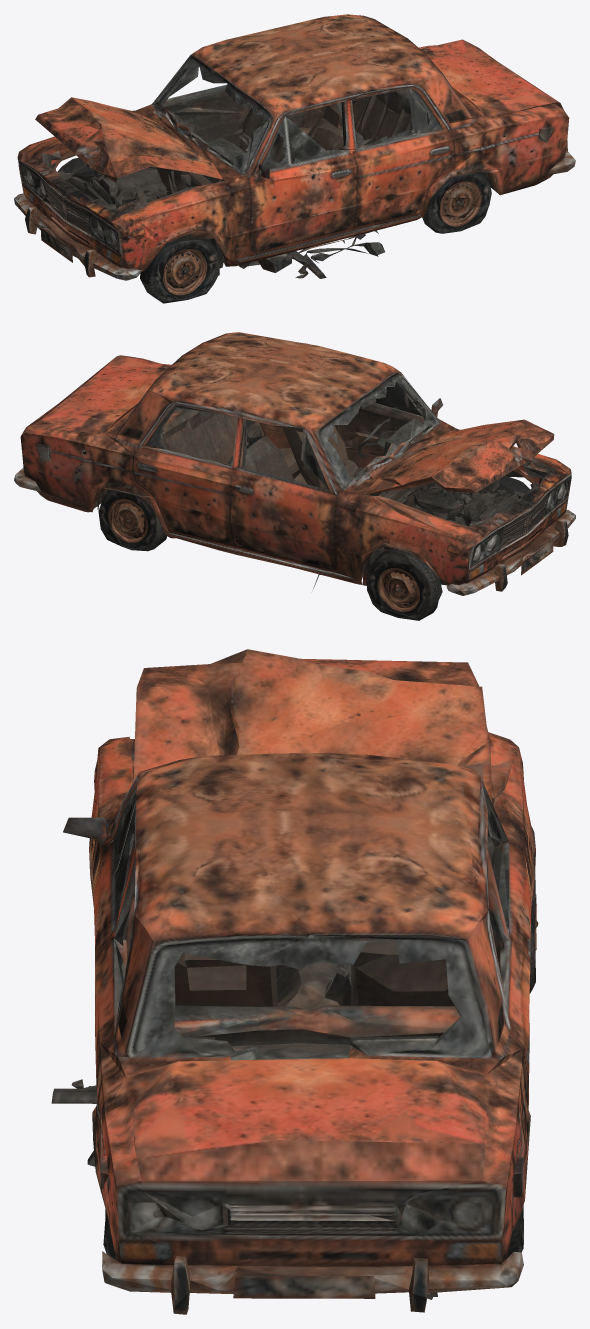
The model's file is WreckedCar.glb.
3 renders of one model, top to bottom at view 1: azimuth 30°, elevation 25°; view 2: azimuth 150°, elevation 25°; view 3: azimuth 270°, elevation 25°, orthographic. The views are drawn at different scales.
Visible parts, largest first — view 1: Mesh_0; view 2: Mesh_0; view 3: Mesh_0.
Part boxes in pixels (left/top/right/bottom): Mesh_0: left=14, top=14, right=575, bottom=303; Mesh_0: left=14, top=332, right=575, bottom=620; Mesh_0: left=51, top=649, right=538, bottom=1314.
Size of the model in its own units: 1.9 by 0.6394 by 0.8317.
1 material, 1 textured.
